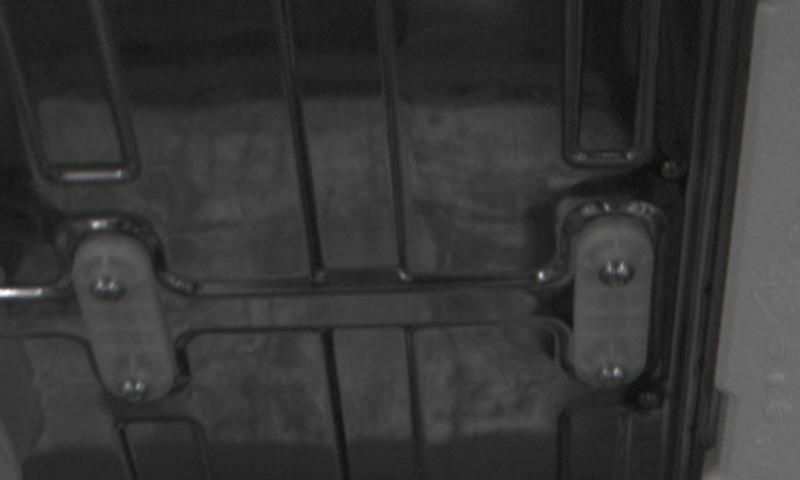vida-ok: (83, 264, 129, 308), (596, 253, 643, 296), (592, 354, 637, 393), (109, 372, 154, 411)
